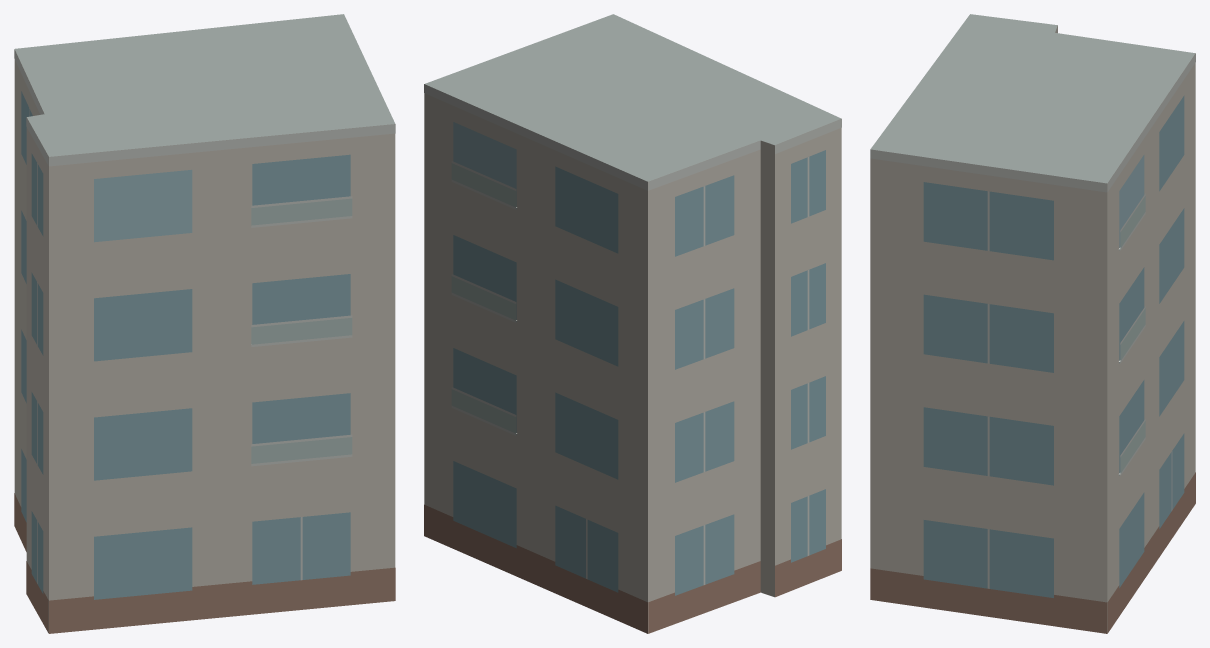
Rendered from survey-upis-32733214.glb.
3 renders of one model, left to right at view 1: azimuth 30°, elevation 25°; view 2: azimuth 150°, elevation 25°; view 3: azimuth 270°, elevation 25°, orthographic. The views are drawn at different scales.
Visible parts, largest first — view 1: survey-upis-32733214.tmp; view 2: survey-upis-32733214.tmp; view 3: survey-upis-32733214.tmp.
Part boxes in pixels (<box>): survey-upis-32733214.tmp: <box>14,14,395,633</box>; survey-upis-32733214.tmp: <box>424,14,841,633</box>; survey-upis-32733214.tmp: <box>870,14,1195,633</box>.
Bounding box in the file's own units: 9.85 × 12.2 × 8.
